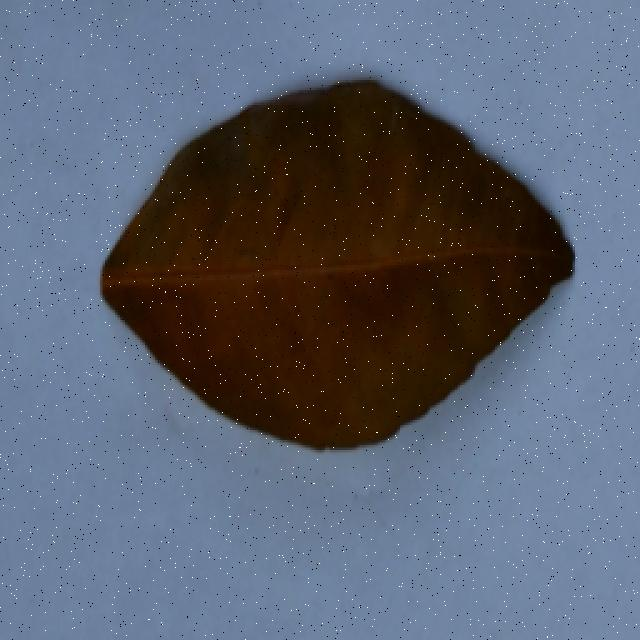greening: (99, 70, 594, 451)
